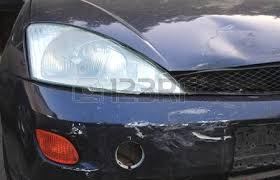Dent: (185, 14, 263, 66)
Scratch: (131, 117, 240, 155), (68, 122, 91, 141)
